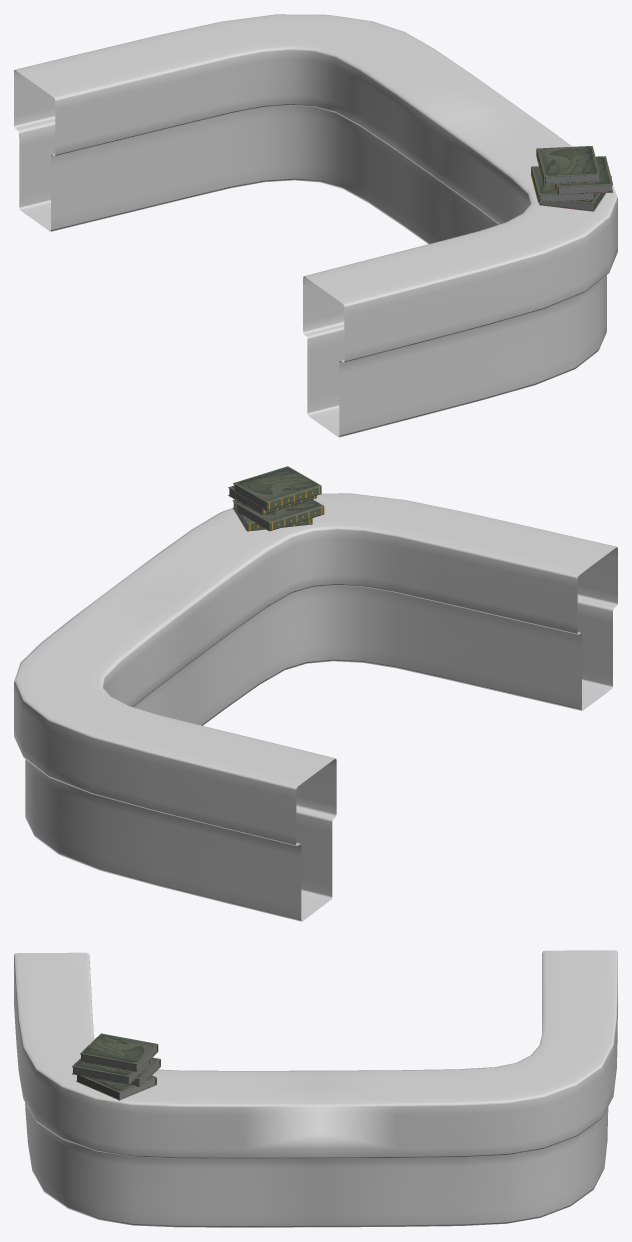
Rendered from Mostrador_bibliotecaria.fbx.
The picture shows the model from 3 angles, top to bottom: view 1: azimuth 30°, elevation 25°; view 2: azimuth 150°, elevation 25°; view 3: azimuth 270°, elevation 25°; orthographic projection. The views are drawn at different scales.
Parts seen in each view (by area): view 1: Cube.031, 10266_Books_Literature_L3.004, 10266_Books_Literature_L3.003, 10266_Books_Literature_L3.002; view 2: Cube.031, 10266_Books_Literature_L3.004, 10266_Books_Literature_L3.002; view 3: Cube.031, 10266_Books_Literature_L3.004, 10266_Books_Literature_L3.003, 10266_Books_Literature_L3.001.
Part boxes in pixels (box(x1,y1,x2,y2)): Cube.031: box(14, 14, 617, 437); 10266_Books_Literature_L3.004: box(536, 146, 599, 184); 10266_Books_Literature_L3.003: box(554, 156, 613, 195); 10266_Books_Literature_L3.002: box(531, 166, 594, 202); Cube.031: box(14, 493, 617, 921); 10266_Books_Literature_L3.004: box(233, 466, 321, 510); 10266_Books_Literature_L3.002: box(236, 499, 324, 531); Cube.031: box(14, 950, 617, 1227); 10266_Books_Literature_L3.004: box(80, 1033, 158, 1071); 10266_Books_Literature_L3.003: box(72, 1058, 150, 1084); 10266_Books_Literature_L3.001: box(76, 1075, 156, 1100).
Bounding box in the file's own units: 181 × 86.9 × 299.
